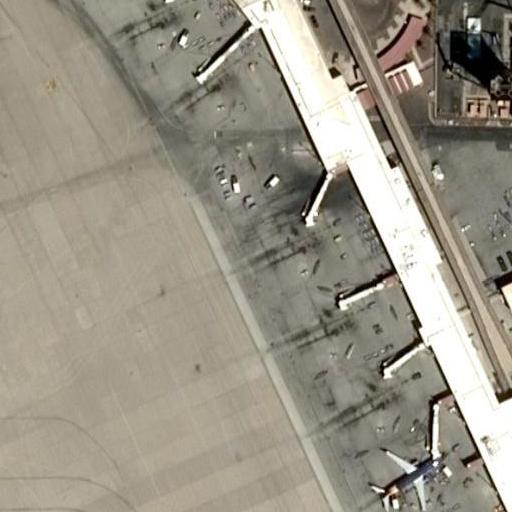Aircraft: (367, 439, 440, 512)
